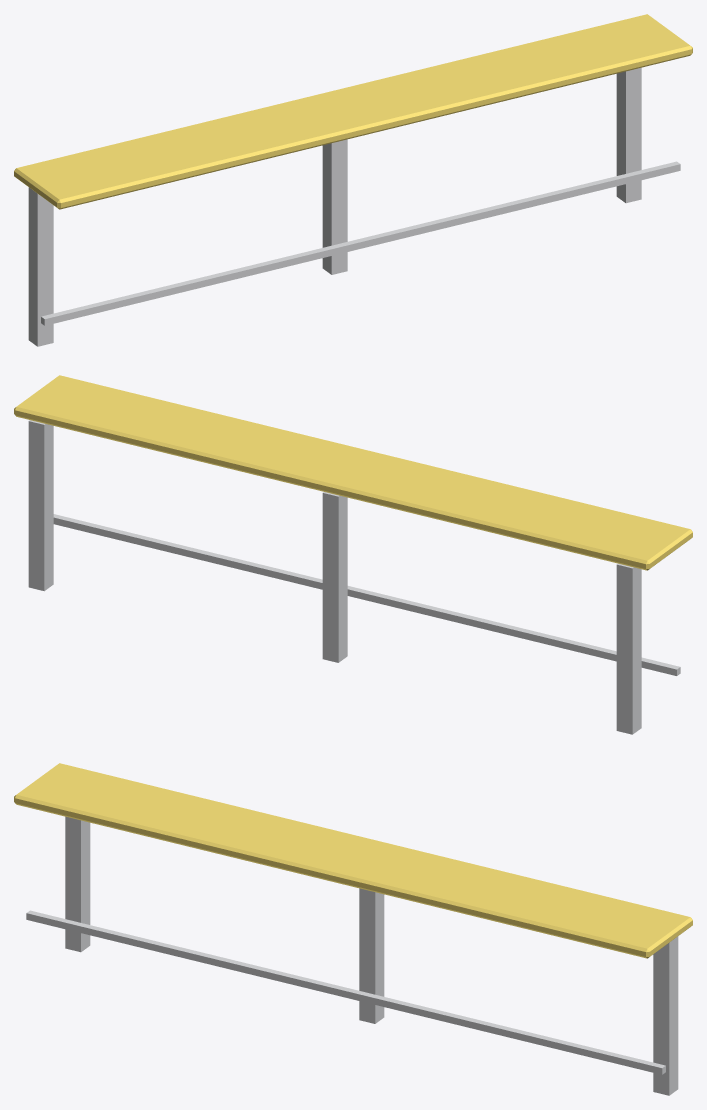
Rendered from bar-burger.glb.
3 views of the same model, one above another, from view 1: azimuth 30°, elevation 25°; view 2: azimuth 150°, elevation 25°; view 3: azimuth 330°, elevation 25° (orthographic).
Parts seen in each view (by area): view 1: bar-burger; view 2: bar-burger; view 3: bar-burger.
Boxes of the visible parts, bbox=[...] form: bar-burger: bbox=[14, 14, 692, 346]; bar-burger: bbox=[14, 375, 692, 734]; bar-burger: bbox=[14, 763, 692, 1095].
Size of the model in its own units: 4 by 1.06 by 0.5.
